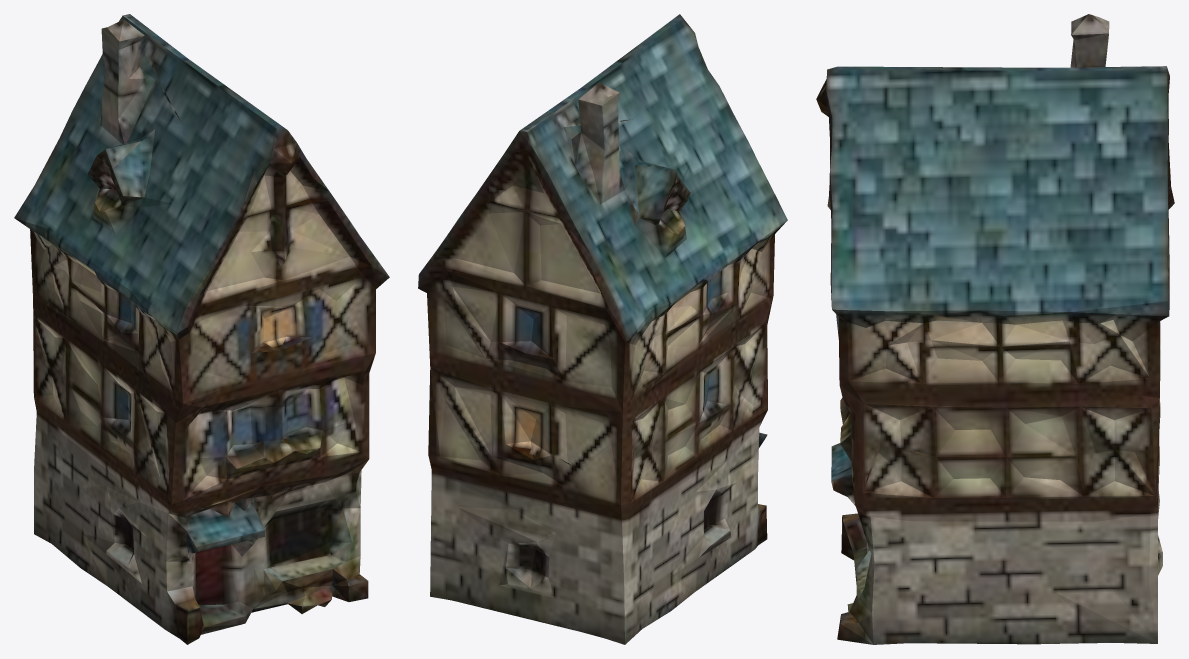
Rendered from village_house_d_4_lod2.glb.
3 views of the same model, side by side, from view 1: azimuth 30°, elevation 25°; view 2: azimuth 150°, elevation 25°; view 3: azimuth 270°, elevation 25° (orthographic). The views are drawn at different scales.
Parts seen in each view (by area): view 1: lod; view 2: lod; view 3: lod.
Boxes of the visible parts, box(x1,y1,x2,y2) form: lod: box(14, 14, 389, 644); lod: box(418, 14, 787, 644); lod: box(816, 14, 1174, 644).
Size of the model in its own units: 5.62 by 13.2 by 7.58.
Materials: 1 (1 with a texture image).
